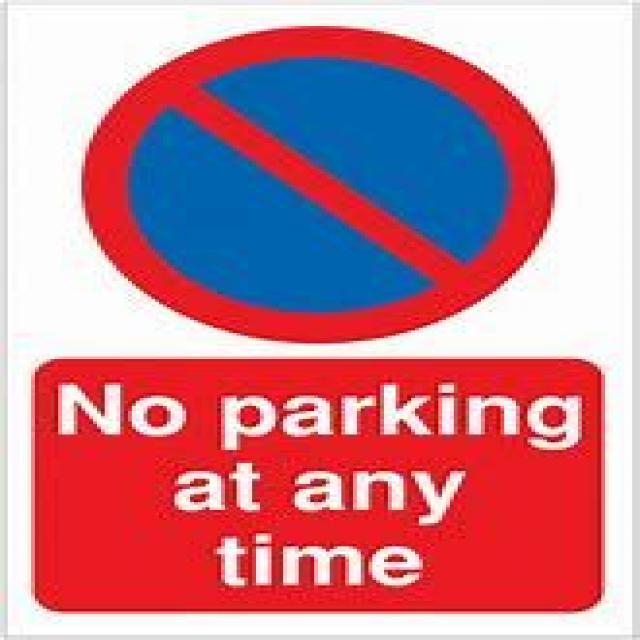NO_PARKING: (82, 26, 554, 346)
